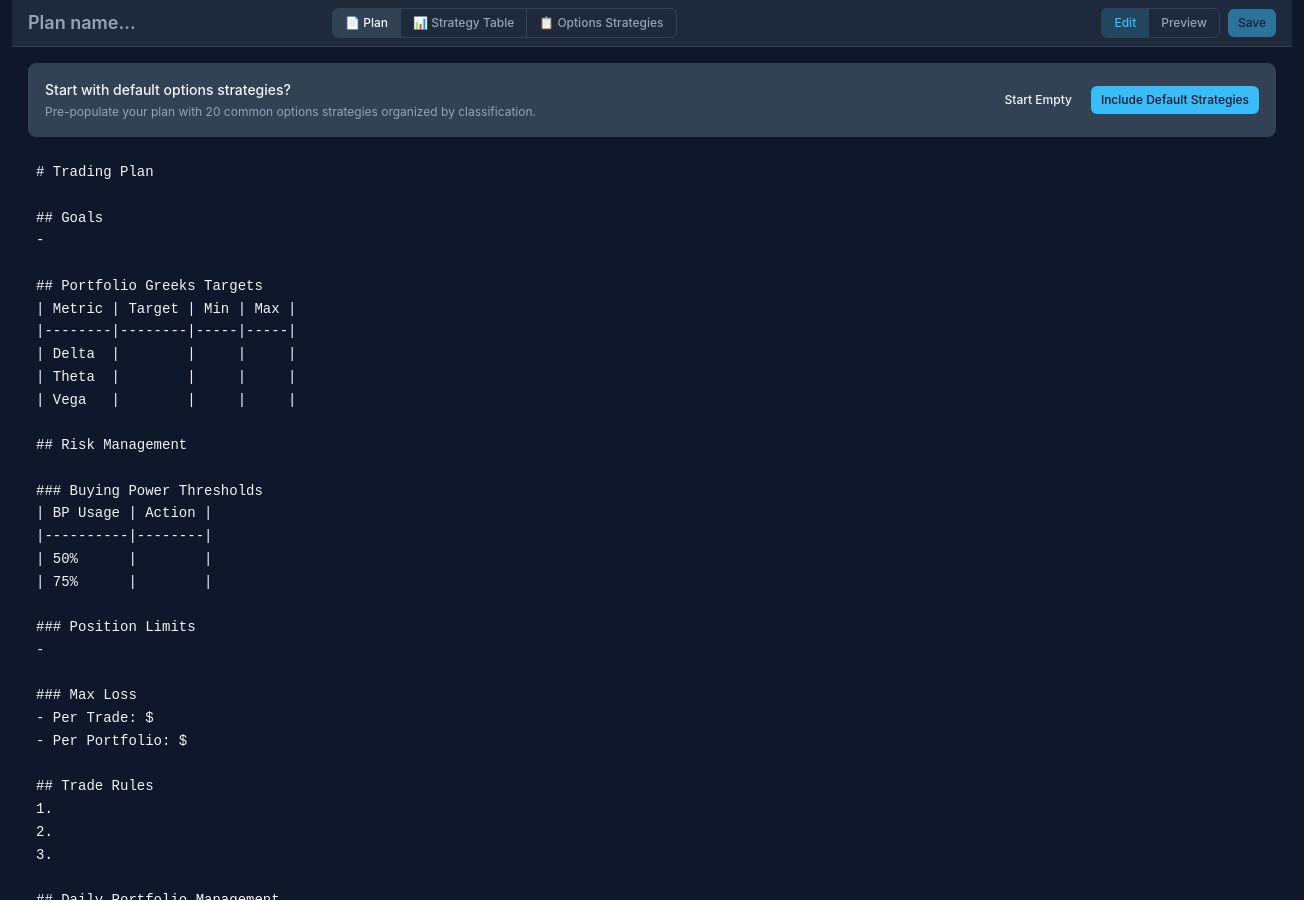
Test: PlanEditor — Default Strategies Prompt › "Start Empty" dismisses the prompt and leaves strategy arrays empty
Click the button "Start Empty": click(1038, 100) [994,85,1083,115]
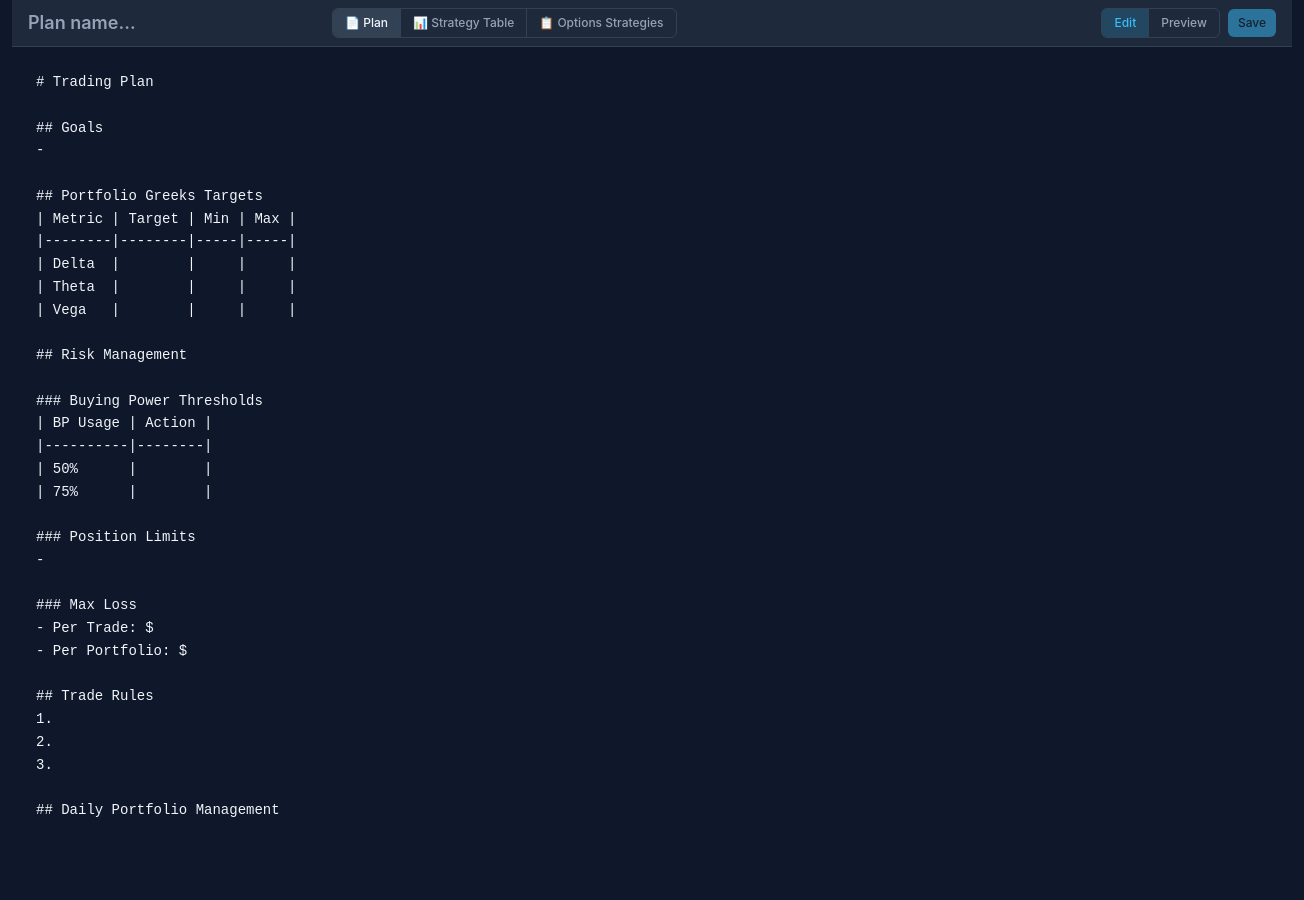
Result: the text "Start with default options strategies?" is gone
